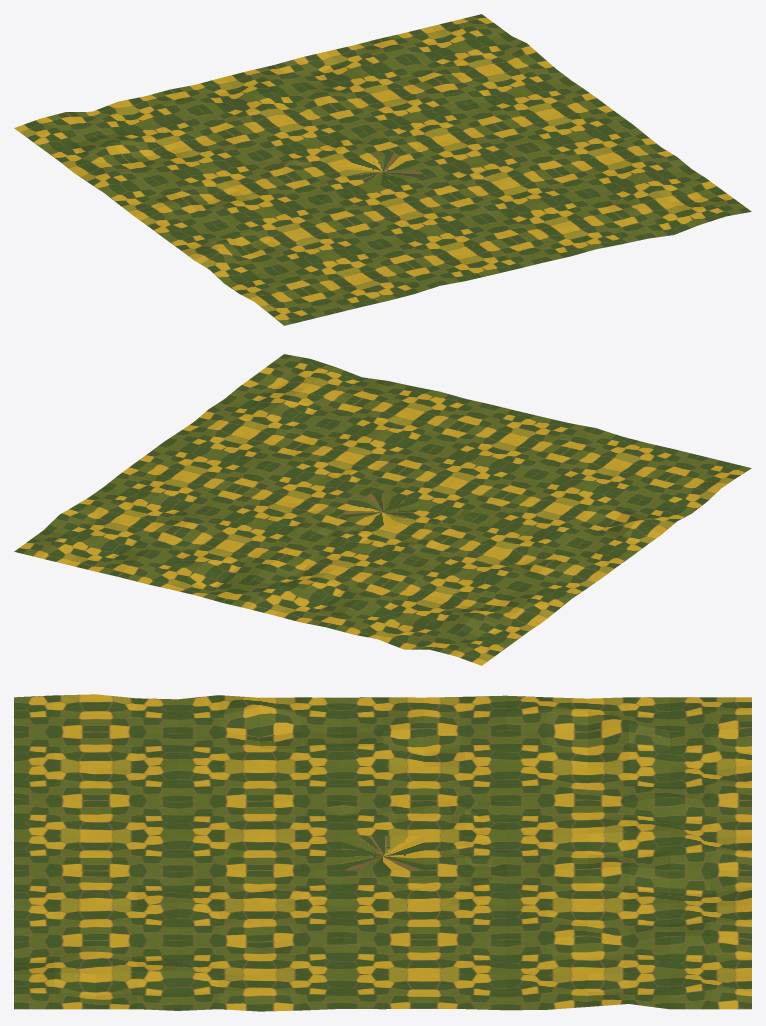
Rendered from houses.glb.
3 views of the same model, one above another, from view 1: azimuth 30°, elevation 25°; view 2: azimuth 150°, elevation 25°; view 3: azimuth 270°, elevation 25° (orthographic). The views are drawn at different scales.
Parts seen in each view (by area): view 1: Plane; view 2: Plane; view 3: Plane.
Boxes of the visible parts, <box> form: Plane: <box>14,14,751,325</box>; Plane: <box>14,354,751,665</box>; Plane: <box>14,694,751,1011</box>.
Size of what is drawn, in the model's own units: 5400 by 120 by 5400.
5 materials, 5 textured.
